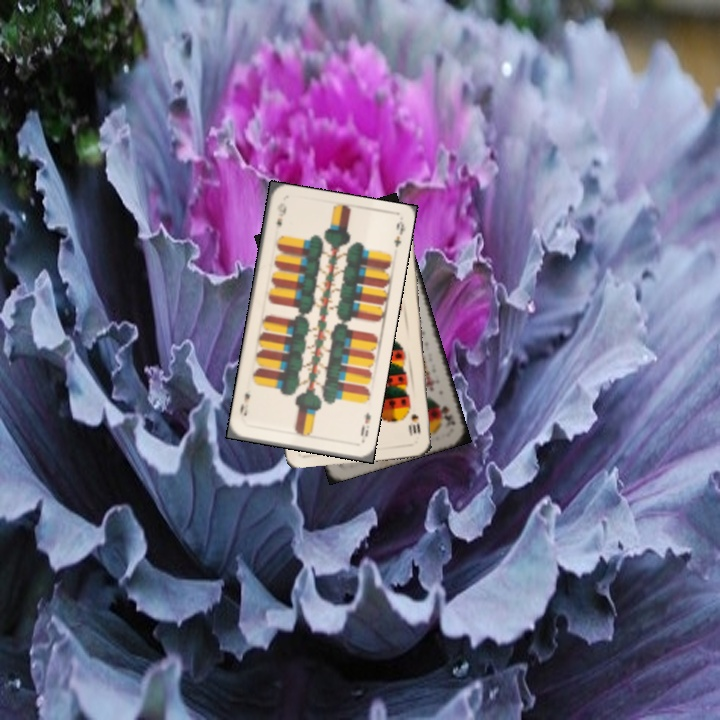E9: (357, 409, 373, 445), (272, 199, 289, 230)
S10: (406, 410, 423, 439)
SK: (434, 398, 458, 429)
